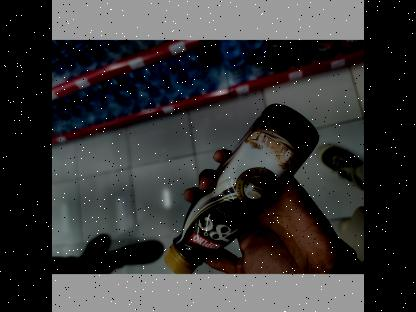Plastic Bottle: (150, 91, 335, 279)
